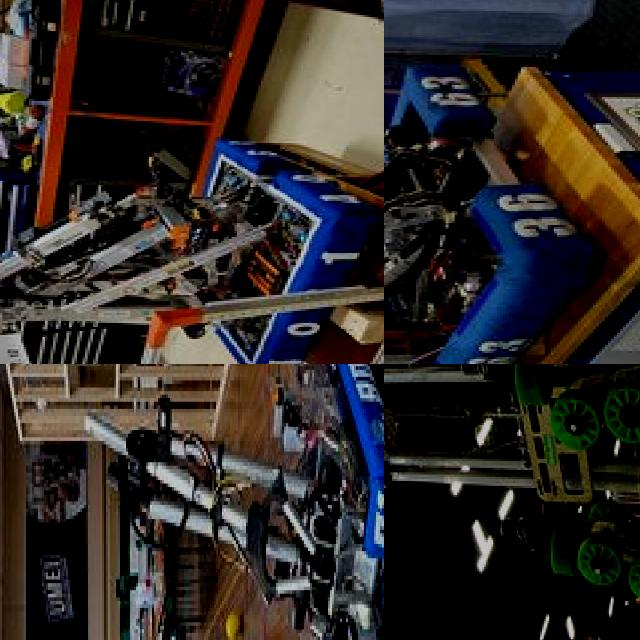FRC-Robots: (10, 364, 384, 640), (0, 116, 384, 364), (384, 0, 640, 364), (384, 364, 640, 640)
